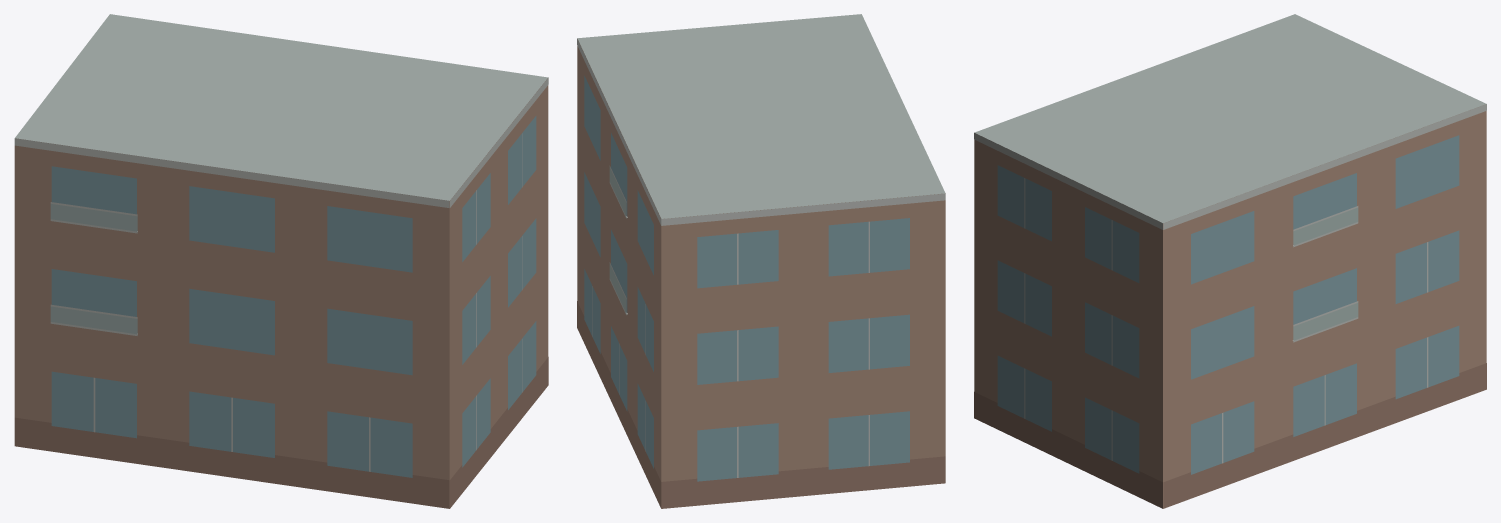
Rendered from survey-upis-32926565.glb.
3 renders of one model, left to right at view 1: azimuth 30°, elevation 25°; view 2: azimuth 150°, elevation 25°; view 3: azimuth 270°, elevation 25°, orthographic. The views are drawn at different scales.
Visible parts, largest first — view 1: survey-upis-32926565.tmp; view 2: survey-upis-32926565.tmp; view 3: survey-upis-32926565.tmp.
Part boxes in pixels (box(x1,y1,x2,y2)): survey-upis-32926565.tmp: box(14, 14, 548, 508); survey-upis-32926565.tmp: box(577, 14, 945, 508); survey-upis-32926565.tmp: box(974, 14, 1486, 508).
Size of the model in its own units: 16.04 by 10.2 by 16.6.
